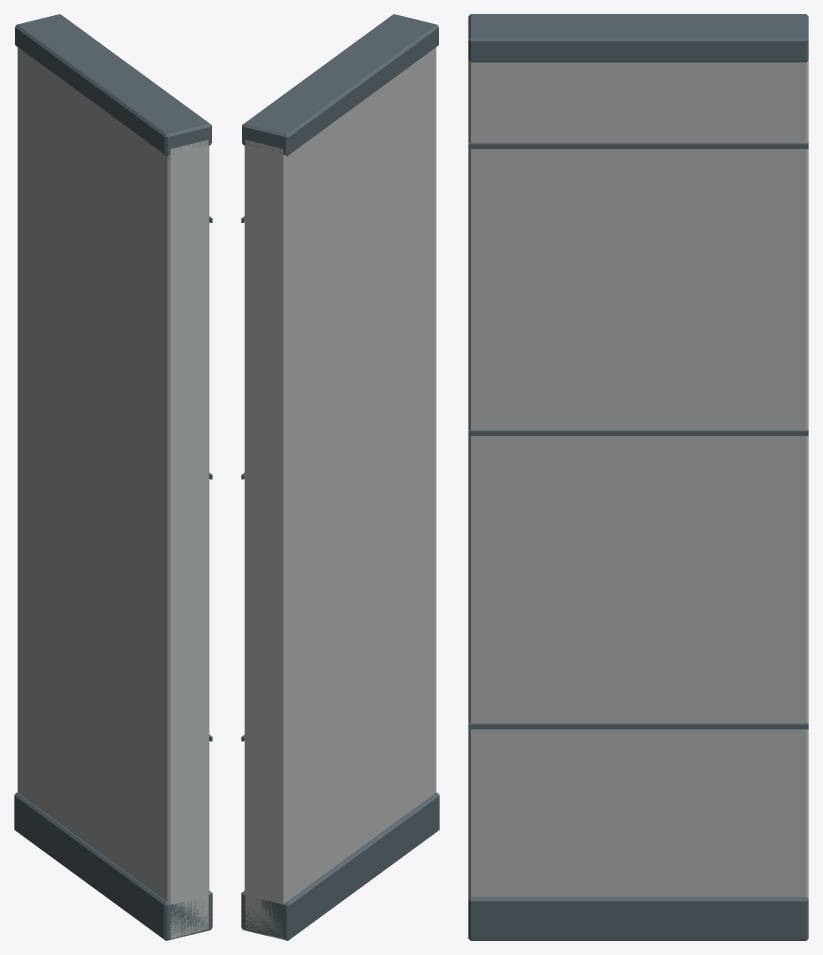
Rendered from concrete-wall.glb.
The picture shows the model from 3 angles, left to right: view 1: azimuth 30°, elevation 25°; view 2: azimuth 150°, elevation 25°; view 3: azimuth 270°, elevation 25°; orthographic projection. The views are drawn at different scales.
Visible parts, largest first — view 1: Structural wall.001, Top coping.001; view 2: Structural wall.001, Top coping.001; view 3: Structural wall.001, Top coping.001.
Boxes of the visible parts, box(x1,y1,x2,y2) form: Structural wall.001: box(17, 47, 209, 939); Top coping.001: box(14, 14, 212, 940); Structural wall.001: box(244, 47, 436, 939); Top coping.001: box(241, 14, 439, 940); Structural wall.001: box(468, 60, 808, 897); Top coping.001: box(468, 14, 808, 940).
Bounding box in the file's own units: 0.185 × 2.93 × 1.
